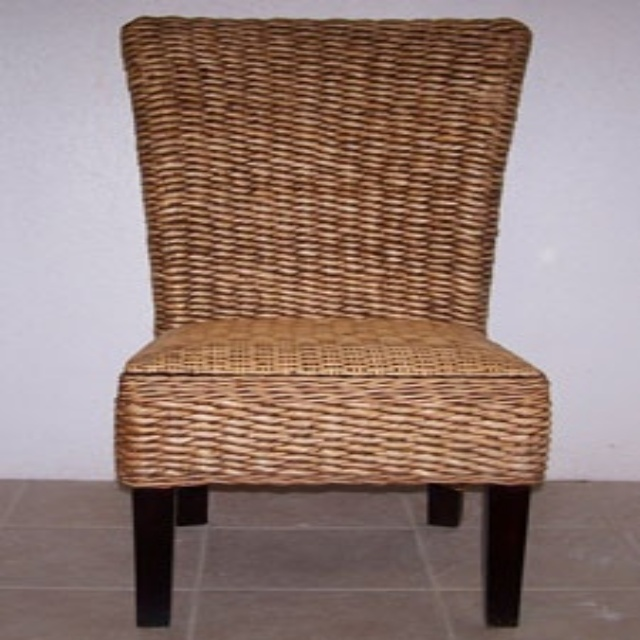obstacle: (117, 17, 546, 623)
